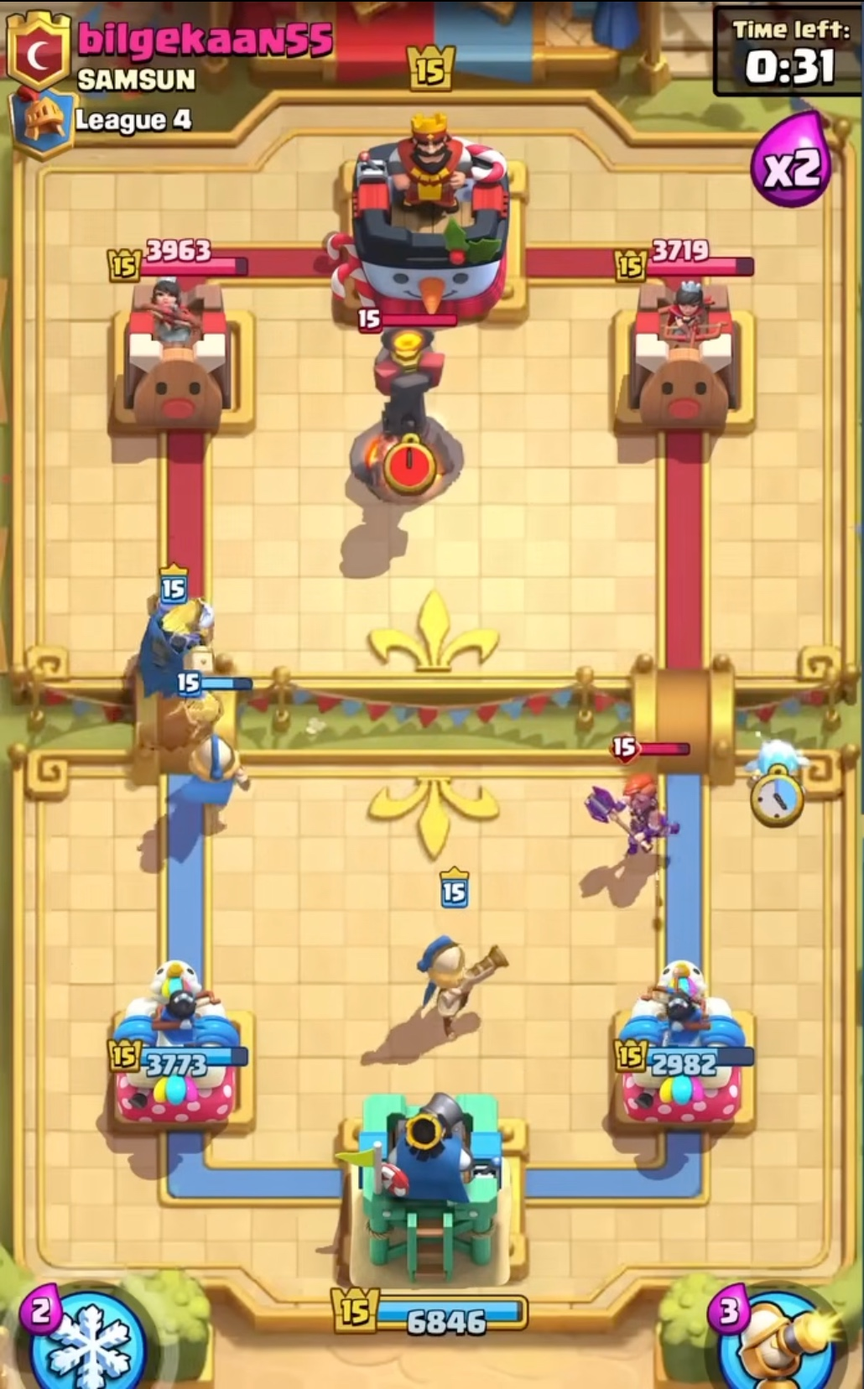hero-ice-golem: (132, 557, 231, 707)
hero-musketeer: (408, 857, 514, 1058), (174, 669, 261, 834)
ice-spirit: (736, 719, 820, 841)
